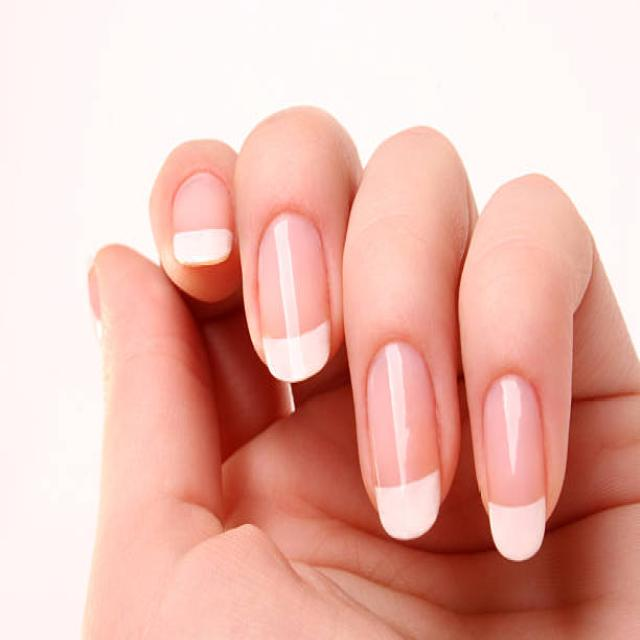Nail: (368, 342, 441, 540), (259, 213, 330, 382), (485, 375, 548, 562), (173, 171, 233, 266)
